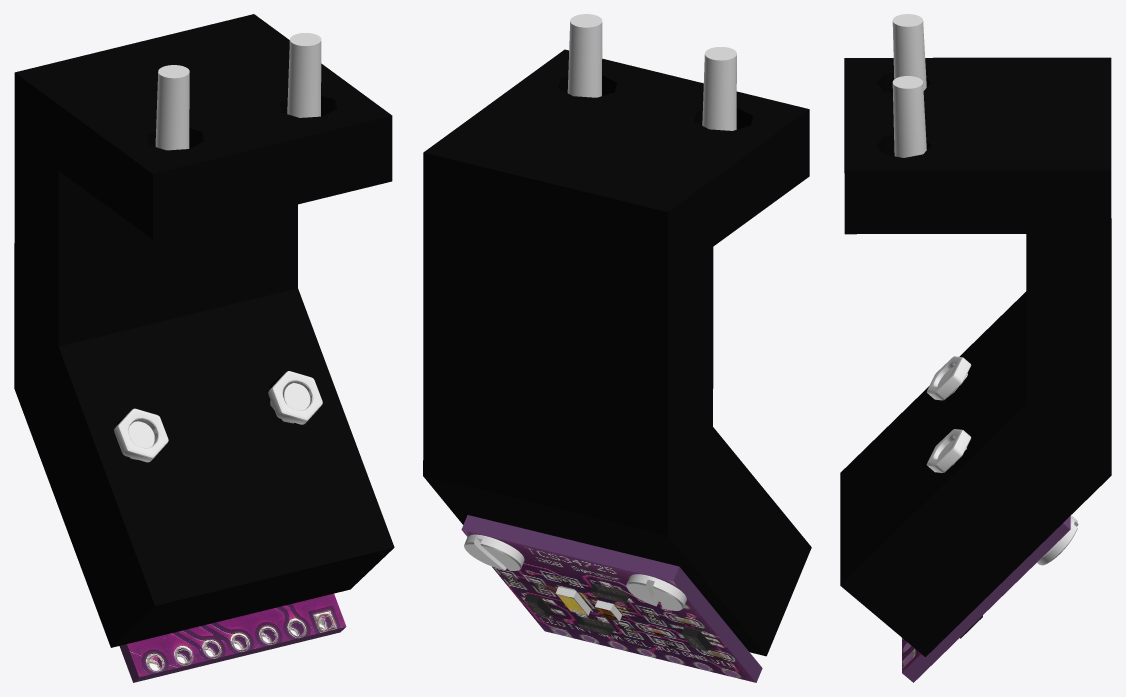
File: Color_Sensor_Build.fbx
The picture shows the model from 3 angles, left to right: view 1: azimuth 30°, elevation 25°; view 2: azimuth 150°, elevation 25°; view 3: azimuth 270°, elevation 25°; orthographic projection. The views are drawn at different scales.
Parts seen in each view (by area): view 1: Color_Sensor_Build; view 2: Color_Sensor_Build; view 3: Color_Sensor_Build.
Boxes of the visible parts, x1,y1,x2,y2 form: Color_Sensor_Build: [14, 14, 394, 682]; Color_Sensor_Build: [423, 14, 811, 682]; Color_Sensor_Build: [840, 14, 1111, 682].
Bounding box in the file's own units: 200 × 482 × 204.
Materials: 8 (2 with a texture image).
